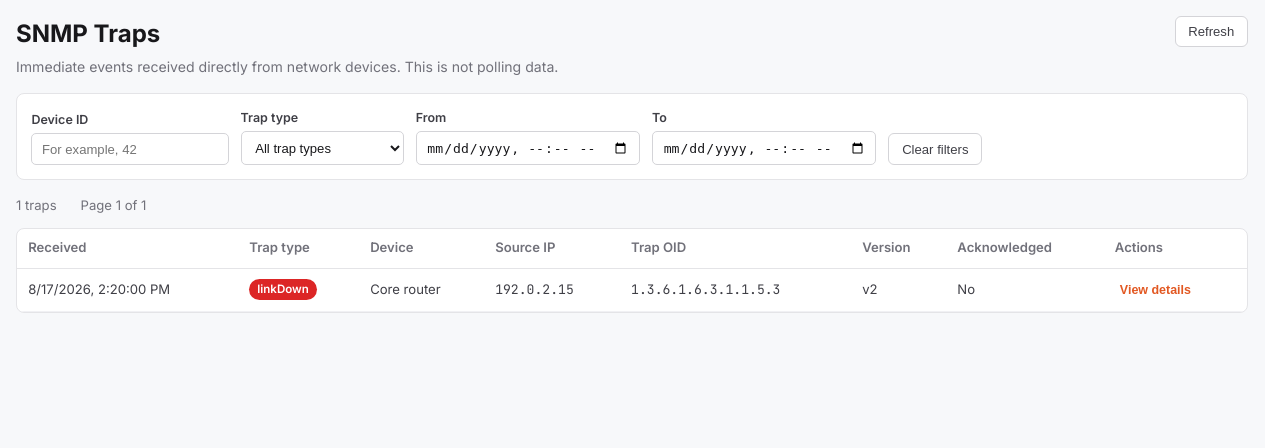
Test: SnmpTraps privacy and permissions › lazy-loads raw varbinds only after an authorized user explicitly opens details
The image size is (1265, 448).
expect the text "Core router" is shown: met, box [359,268,484,311]
Click the button "View details": {"x": 1155, "y": 290} [1115,280,1196,300]
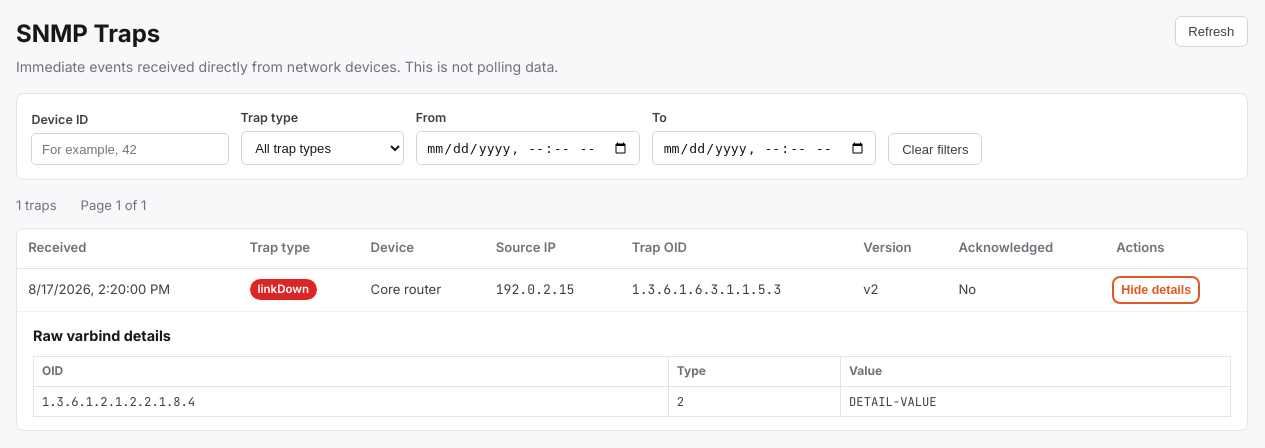
expect the text "DETAIL-VALUE" is shown: met, box [841,386,1230,417]
expect the text "1.3.6.1.2.1.2.2.1.8.4" is shown: met, box [34,386,668,417]
